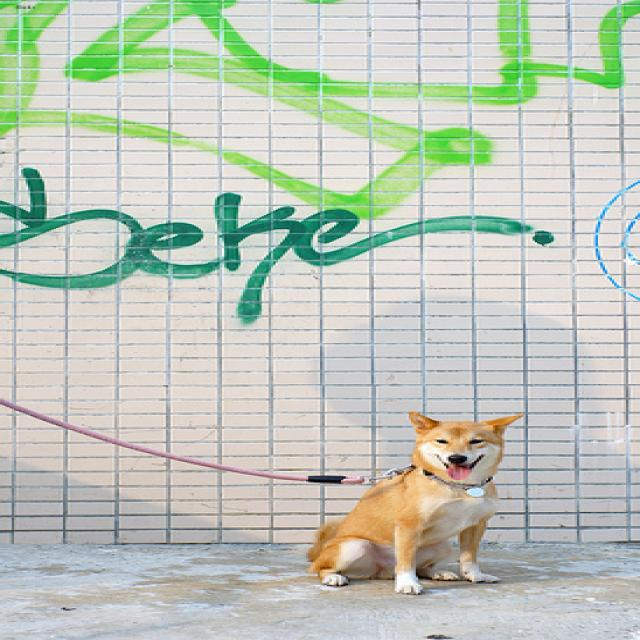dog-shiba_inu: (301, 407, 528, 598)
